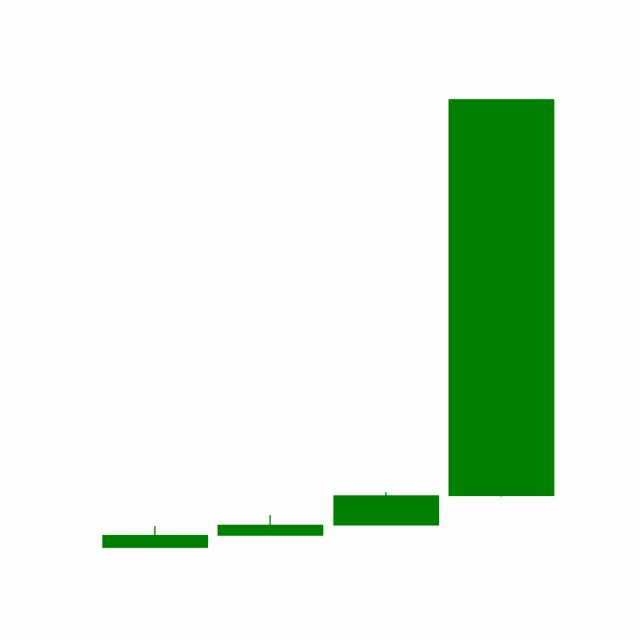Marubozu: (443, 94, 559, 501)
